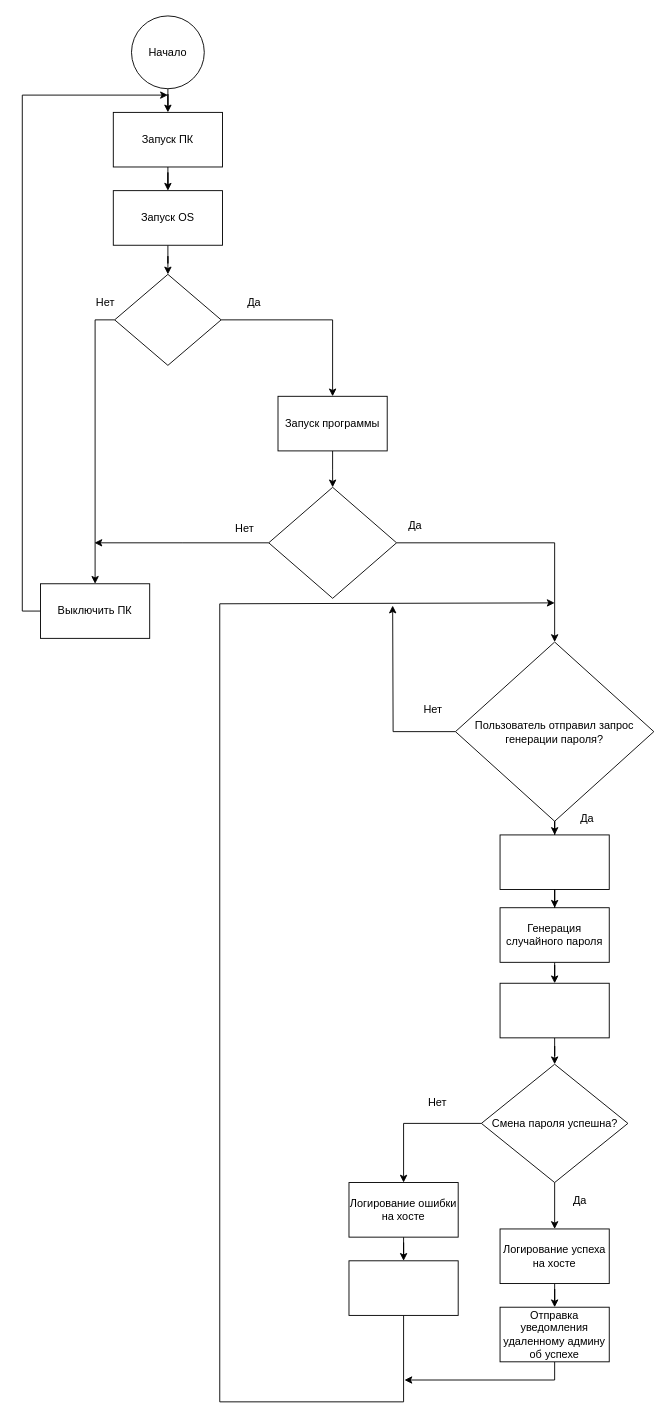
This 670x1425 diagram has some shape labels left out. Here are the shapes that lost their labels. From the top down, the centre of each, then its label:
At pixel 167 319: "Запуск OS успешен?".
At pixel 332 542: "Запуск программы успешен?".
At pixel 554 862: "Логирование попытки смены пароля на хосте и удаленному админу".
At pixel 554 1010: "Попытка смена старого пароля на новый".
At pixel 403 1287: "Отправка удаленному пользователю ошибки".
